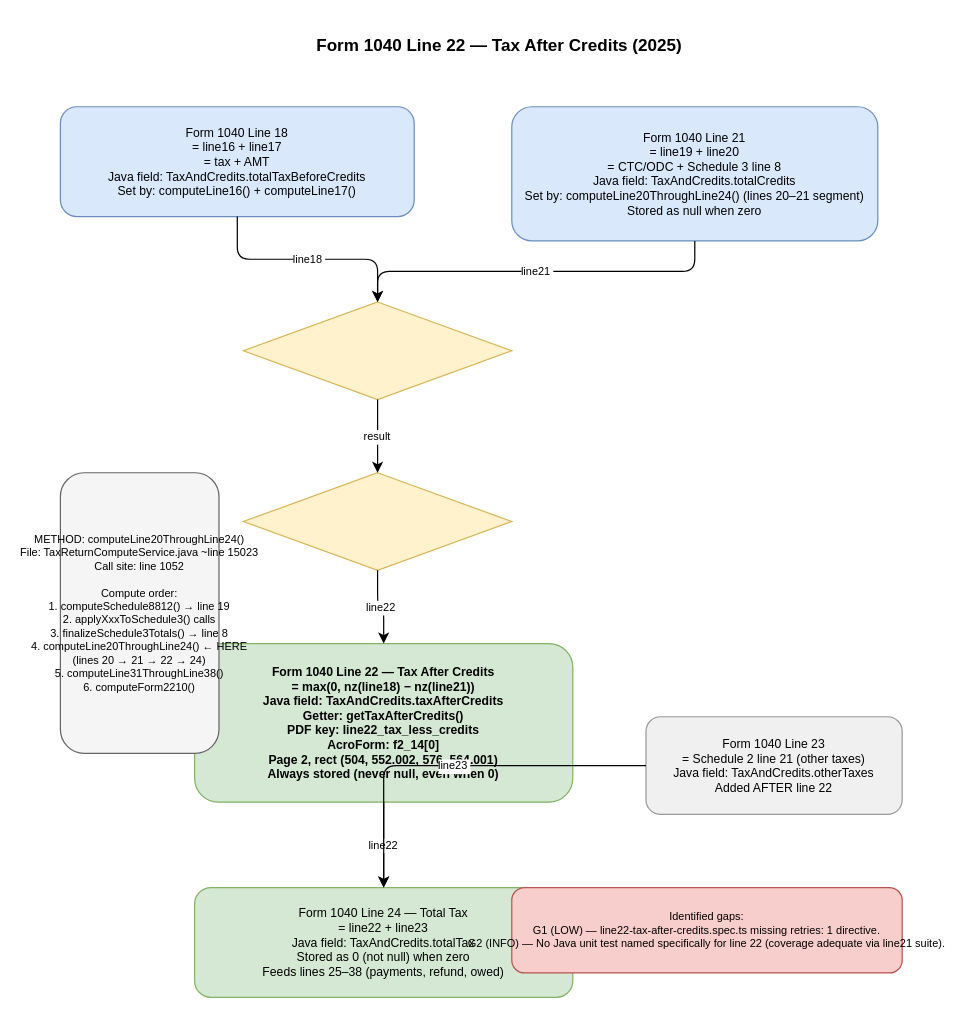
The diagram is 967 pixels wide and 1019 high, and some of its shapes have lost their labels. The shapes that lost their labels are listed below. From the top down, each one's box as (x1, y1, x2, y2) in pixels, then its label:
(242, 301, 512, 400): line18 − line21 = safeAmount(line18).subtract(safeAmount(line21))
(242, 472, 512, 570): max(0, result) .max(BigDecimal.ZERO) IRS: 'If zero or less, enter -0-'
